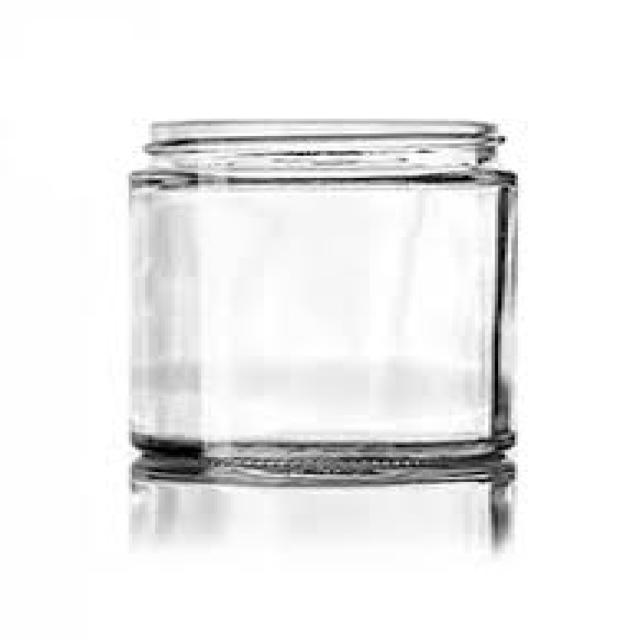Anorganik: (126, 119, 512, 462)
